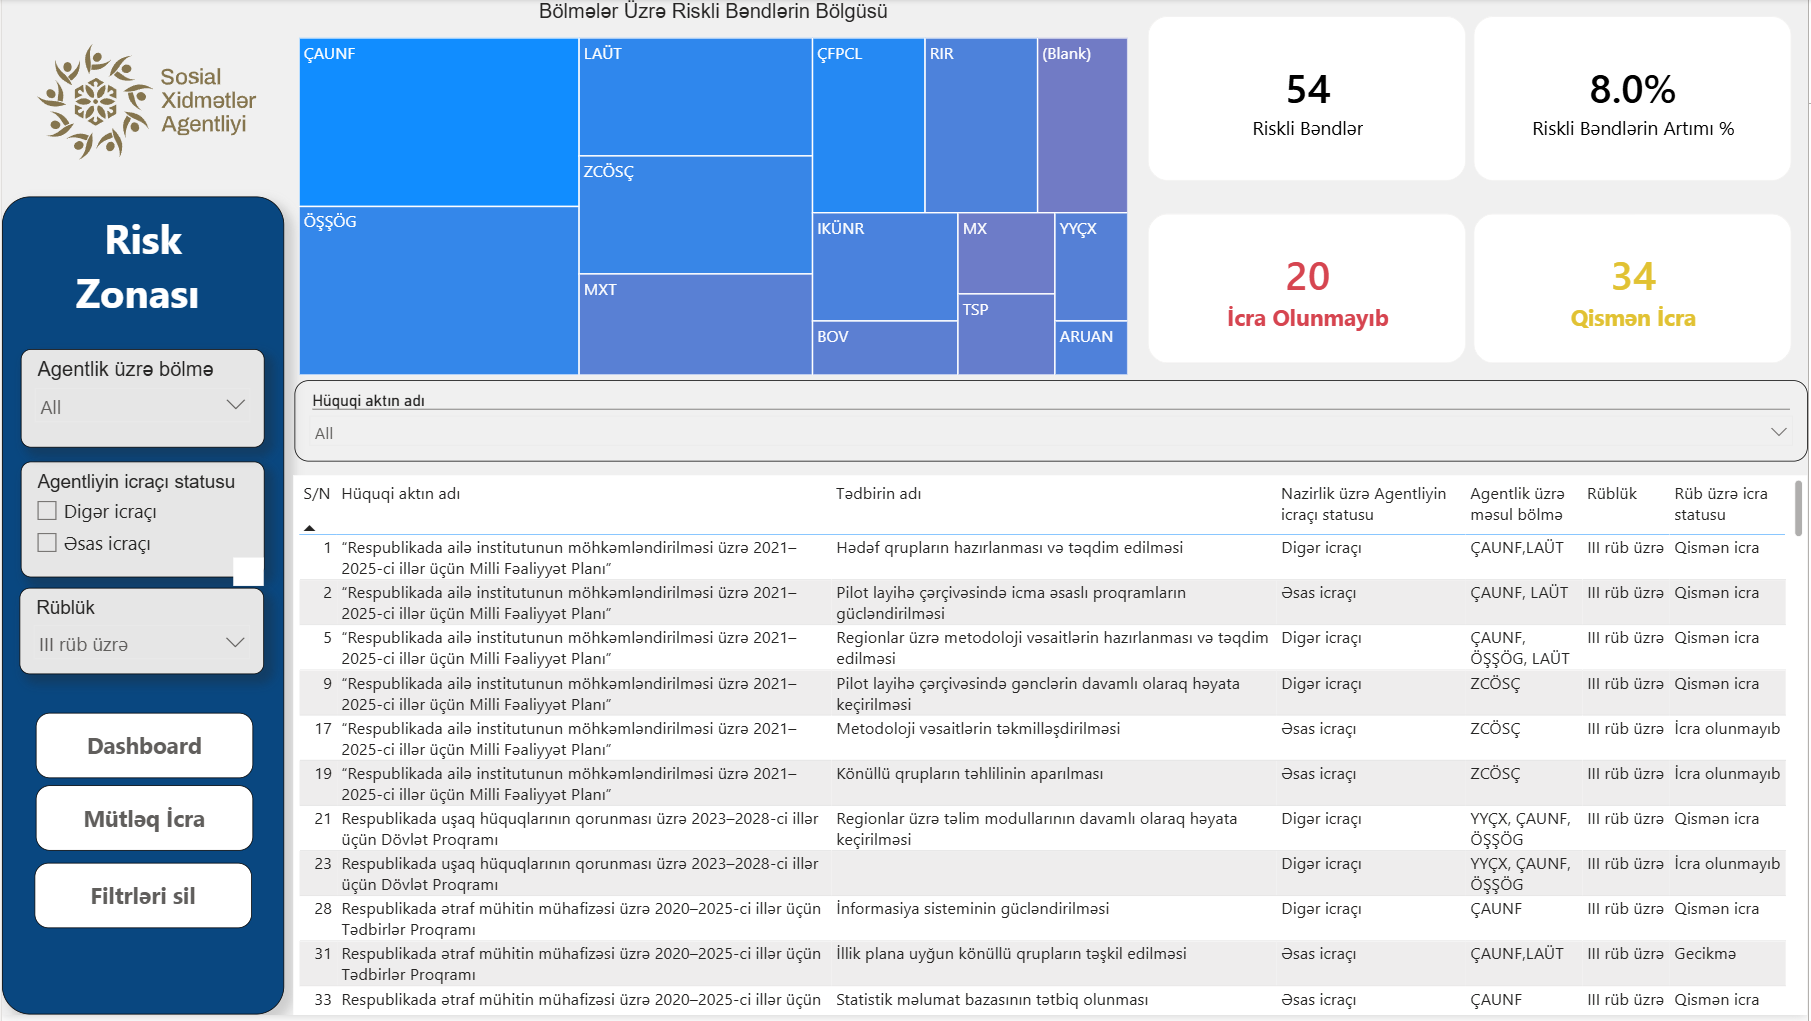

The dashboard page shown, as its layout file describes it:
{"tool":"powerbi","page":{"name":"Risk zonası","canvas":[1920,1080],"ordinal":2},"visuals":[{"type":"textbox","box":[0,210.6,300.4,869.4],"z":0},{"type":"cardVisual","fields":{"Data":["Rubluk.Riskli Bəndlər","Rubluk.Riskli Bəndlərin Artımı %"]},"box":[1201,1.4,719,209.9],"z":1000},{"type":"cardVisual","fields":{"Data":["Rubluk.Seçilmiş Rüb İcra Olunmayıb","Rubluk.Seçilmiş Rüb Qismən İcra"]},"box":[1201,211.2,719,193.6],"z":2000},{"type":"treemap","title":"Bölmələr Üzrə Riskli Bəndlərin Bölgüsü","fields":{"Group":["Mesul bolme.Agentlik üzrə məsul bölmə"],"Values":["Rubluk.Riskli Bəndlər"]},"box":[311.4,1.4,890.9,403.5],"z":3000},{"type":"slicer","fields":{"Values":["Esas cedvel.Hüquqi aktın adı"]},"box":[311.4,404.9,1608.6,86.7],"z":4000},{"type":"tableEx","fields":{"Values":["Esas cedvel.S/N","Esas cedvel.Hüquqi aktın adı","Esas cedvel.Tədbirin adı","Esas cedvel.Nazirlik üzrə Agentliyin icraçı statusu","Esas cedvel.Agentlik üzrə məsul bölmə","Rubluk.Rubluk","Rubluk.Rub uzre icra statusu"]},"box":[310.1,505.9,1609.9,574.1],"z":5000},{"type":"slicer","fields":{"Values":["Esas cedvel.Nazirlik üzrə Agentliyin icraçı statusu"]},"box":[20.5,491.6,259,122.9],"z":6000},{"type":"slicer","fields":{"Values":["Rubluk.Rubluk"]},"box":[19.2,626,259.9,92.4],"z":7000},{"type":"slicer","fields":{"Values":["Mesul bolme.Agentlik üzrə məsul bölmə"]},"box":[20.5,372.5,259,104.4],"z":8000},{"type":"image","box":[16.6,0,275,218.2],"z":9000},{"type":"actionButton","box":[35.7,758.8,230.9,69.4],"z":10000},{"type":"actionButton","box":[35.7,836.4,230.9,69.4],"z":11000},{"type":"actionButton","box":[34.5,918.9,230.9,69.4],"z":12000}]}

Visuals, with their boxes in screenshot pixels (x1, y1, x2, y2), scaled from the page's 1920x1080 canvas onto the 1811x1021 screenshot:
textbox: [left=0, top=199, right=283, bottom=1020]
cardVisual - Rubluk.Riskli Bəndlər x Rubluk.Riskli Bəndlərin Artımı %: [left=1133, top=1, right=1810, bottom=200]
cardVisual - Rubluk.Seçilmiş Rüb İcra Olunmayıb x Rubluk.Seçilmiş Rüb Qismən İcra: [left=1133, top=200, right=1810, bottom=383]
"Bölmələr Üzrə Riskli Bəndlərin Bölgüsü" treemap: [left=294, top=1, right=1134, bottom=383]
slicer - Esas cedvel.Hüquqi aktın adı: [left=294, top=383, right=1810, bottom=465]
tableEx - Esas cedvel.S/N x Esas cedvel.Hüquqi aktın adı: [left=292, top=478, right=1810, bottom=1020]
slicer - Esas cedvel.Nazirlik üzrə Agentliyin icraçı statusu: [left=19, top=465, right=264, bottom=581]
slicer - Rubluk.Rubluk: [left=18, top=592, right=263, bottom=679]
slicer - Mesul bolme.Agentlik üzrə məsul bölmə: [left=19, top=352, right=264, bottom=451]
image: [left=16, top=0, right=275, bottom=206]
actionButton: [left=34, top=717, right=251, bottom=783]
actionButton: [left=34, top=791, right=251, bottom=856]
actionButton: [left=33, top=869, right=250, bottom=934]
